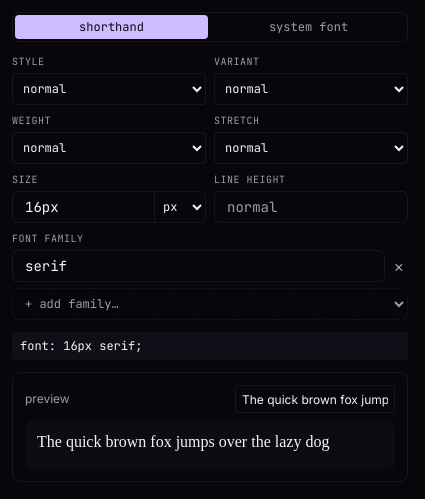
FontEditorPanel — field controls › an empty size field marks the unit select opaque, not px
Clear the field named "Font size" at point(83, 207), box [12,191,154,223]
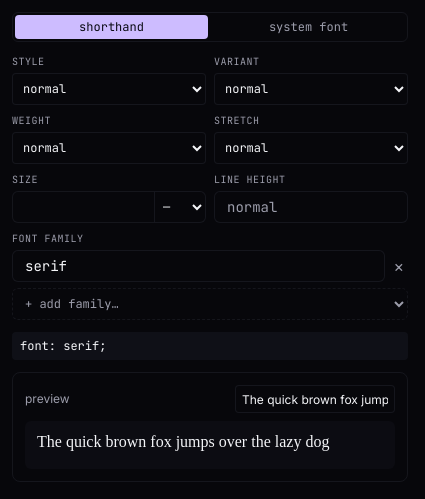
Now the dropdown named "Font size unit" shows "—", box [154,191,206,223]
